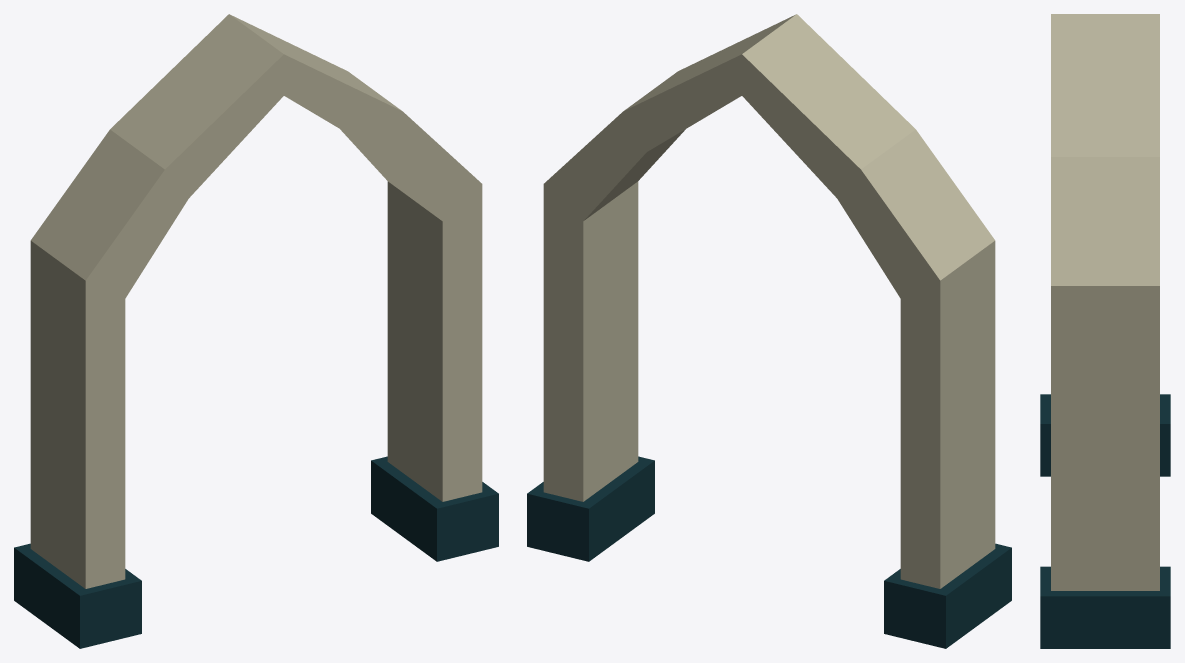
Rendered from WP_A09_arch_doorway_v02.glb.
The picture shows the model from 3 angles, left to right: view 1: azimuth 30°, elevation 25°; view 2: azimuth 150°, elevation 25°; view 3: azimuth 270°, elevation 25°; orthographic projection.
Visible parts, largest first — view 1: ArchFrame; view 2: ArchFrame; view 3: ArchFrame.
Part boxes in pixels (<box>): ArchFrame: <box>14,14,498,648</box>; ArchFrame: <box>527,14,1011,648</box>; ArchFrame: <box>1040,14,1170,648</box>.
Bounding box in the file's own units: 2.64 × 3.25 × 0.72.
